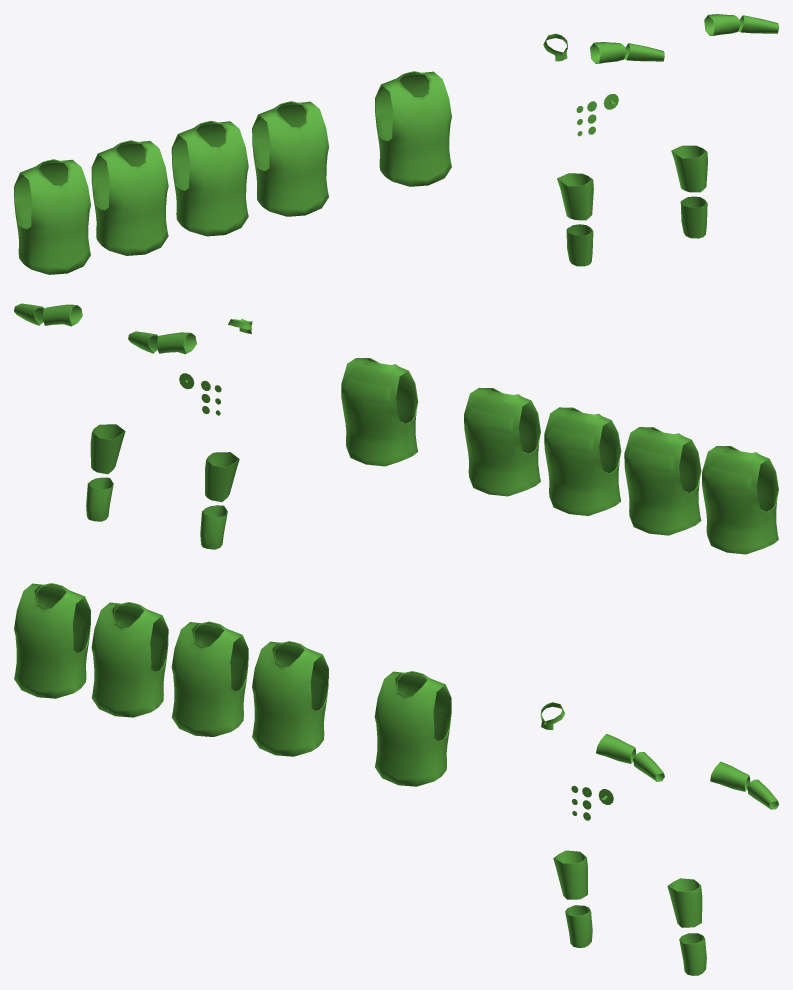
File: SM_PropsPack_02a.fbx
3 renders of one model, top to bottom at view 1: azimuth 30°, elevation 25°; view 2: azimuth 150°, elevation 25°; view 3: azimuth 330°, elevation 25°, orthographic.
Visible parts, largest first — view 1: SM_MadaVest_01c, SM_MadaVest_01d, SM_MadaVest_01e, SM_MadaVest_01a, SM_MadaVest_01b, SM_LegBandage_01a, SM_LegBandage_01b, SM_LegBandage_02a, SM_LegBandage_02b, SM_HandBandage_01b, SM_HandBandage_01a, SM_HandBandage_02a (+1 smaller); view 2: SM_MadaVest_01c, SM_MadaVest_01d, SM_MadaVest_01e, SM_MadaVest_01b, SM_MadaVest_01a, SM_LegBandage_01b, SM_LegBandage_01a, SM_LegBandage_02b, SM_LegBandage_02a, SM_HandBandage_01b, SM_HandBandage_01a, SM_HandBandage_02a (+1 smaller); view 3: SM_MadaVest_01e, SM_MadaVest_01b, SM_MadaVest_01d, SM_MadaVest_01a, SM_MadaVest_01c, SM_LegBandage_01b, SM_LegBandage_01a, SM_LegBandage_02b, SM_LegBandage_02a, SM_HandBandage_01b, SM_HandBandage_01a.
Boxes of the visible parts, box(x1,y1,x2,y2) form: SM_MadaVest_01c: box(171, 121, 248, 236); SM_MadaVest_01d: box(91, 140, 168, 255); SM_MadaVest_01e: box(14, 159, 90, 274); SM_MadaVest_01a: box(375, 71, 451, 186); SM_MadaVest_01b: box(252, 101, 328, 216); SM_LegBandage_01a: box(557, 173, 593, 220); SM_LegBandage_01b: box(671, 145, 707, 192); SM_LegBandage_02a: box(566, 224, 593, 266); SM_LegBandage_02b: box(680, 196, 707, 238); SM_HandBandage_01b: box(704, 14, 740, 35); SM_HandBandage_01a: box(590, 42, 626, 63); SM_HandBandage_02a: box(624, 43, 664, 61); SM_MadaVest_01c: box(544, 407, 621, 515); SM_MadaVest_01d: box(624, 427, 701, 535); SM_MadaVest_01e: box(702, 446, 778, 554); SM_MadaVest_01b: box(464, 387, 540, 496); SM_MadaVest_01a: box(341, 358, 418, 466); SM_LegBandage_01b: box(90, 424, 125, 474); SM_LegBandage_01a: box(205, 452, 239, 501); SM_LegBandage_02b: box(86, 477, 113, 521); SM_LegBandage_02a: box(200, 505, 227, 549); SM_HandBandage_01b: box(42, 304, 82, 326); SM_HandBandage_01a: box(156, 332, 196, 354); SM_HandBandage_02a: box(128, 331, 158, 353); SM_MadaVest_01e: box(14, 583, 90, 698); SM_MadaVest_01b: box(252, 641, 328, 756); SM_MadaVest_01d: box(91, 602, 168, 717); SM_MadaVest_01a: box(374, 671, 451, 786); SM_MadaVest_01c: box(171, 621, 248, 736); SM_LegBandage_01b: box(667, 878, 702, 927); SM_LegBandage_01a: box(553, 850, 587, 899); SM_LegBandage_02b: box(679, 933, 706, 975); SM_LegBandage_02a: box(565, 905, 592, 947); SM_HandBandage_01b: box(710, 761, 750, 791); SM_HandBandage_01a: box(596, 734, 635, 763).
Size of the model in its own units: 443 by 130 by 31.
